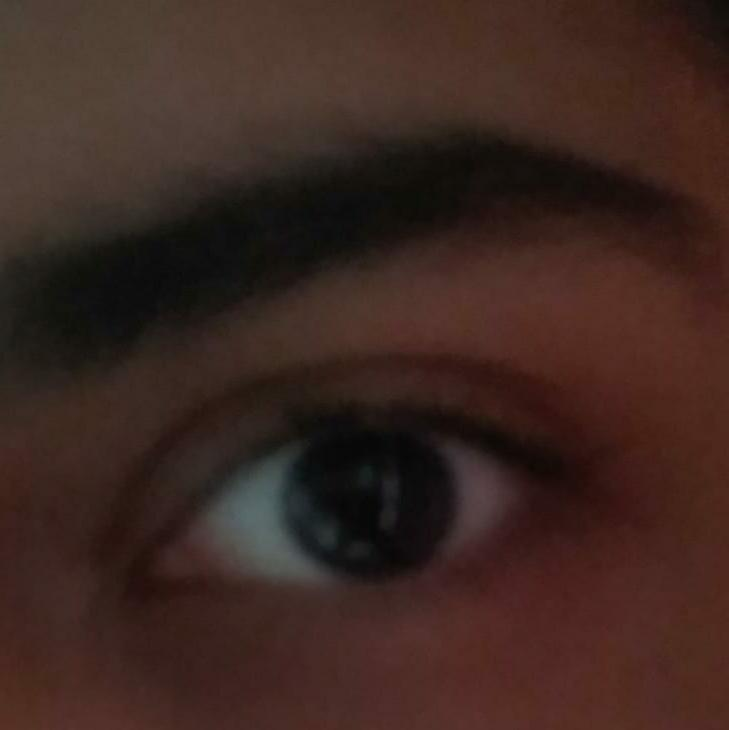open: (89, 329, 666, 663)
